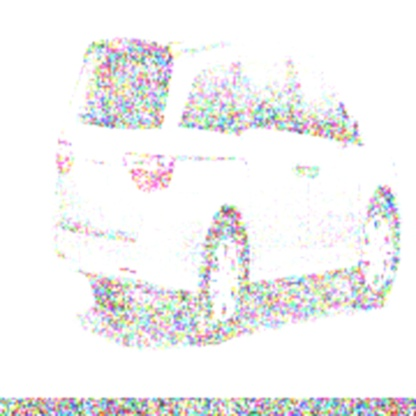Vehicle: (50, 31, 404, 346)
